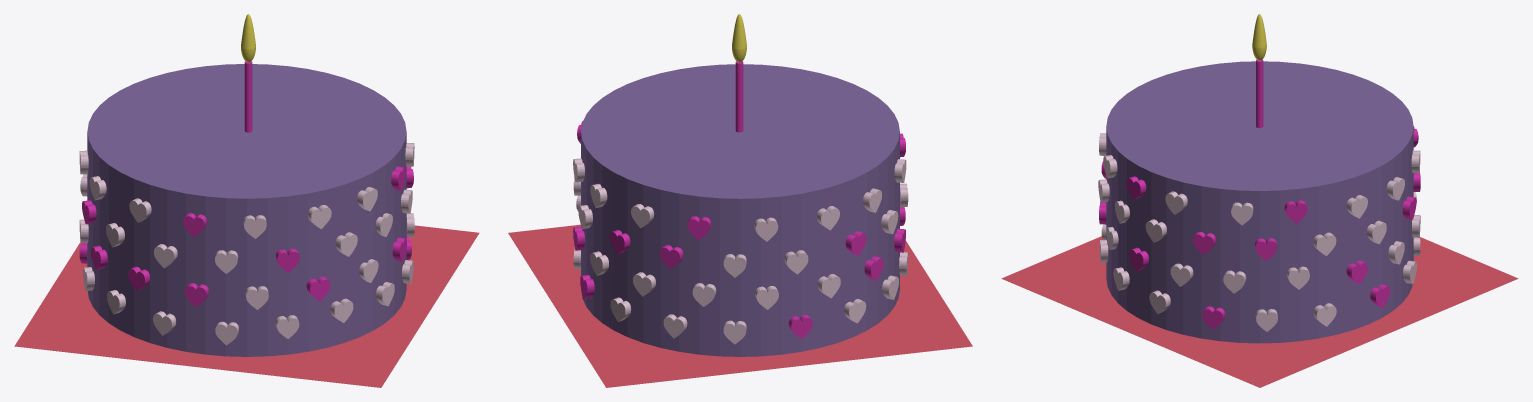
Rendered from ube.glb.
The picture shows the model from 3 angles, left to right: view 1: azimuth 30°, elevation 25°; view 2: azimuth 150°, elevation 25°; view 3: azimuth 270°, elevation 25°; orthographic projection. The views are drawn at different scales.
Parts seen in each view (by area): view 1: Mesh_Mesh_head_geo.001_lambert2SG.001; view 2: Mesh_Mesh_head_geo.001_lambert2SG.001; view 3: Mesh_Mesh_head_geo.001_lambert2SG.001.
Part boxes in pixels (x1=…): Mesh_Mesh_head_geo.001_lambert2SG.001: x1=14, y1=14, x2=479, y2=387; Mesh_Mesh_head_geo.001_lambert2SG.001: x1=508, y1=14, x2=972, y2=387; Mesh_Mesh_head_geo.001_lambert2SG.001: x1=1001, y1=14, x2=1518, y2=387.
Bounding box in the file's own units: 0.0354 × 0.02 × 0.0354.
